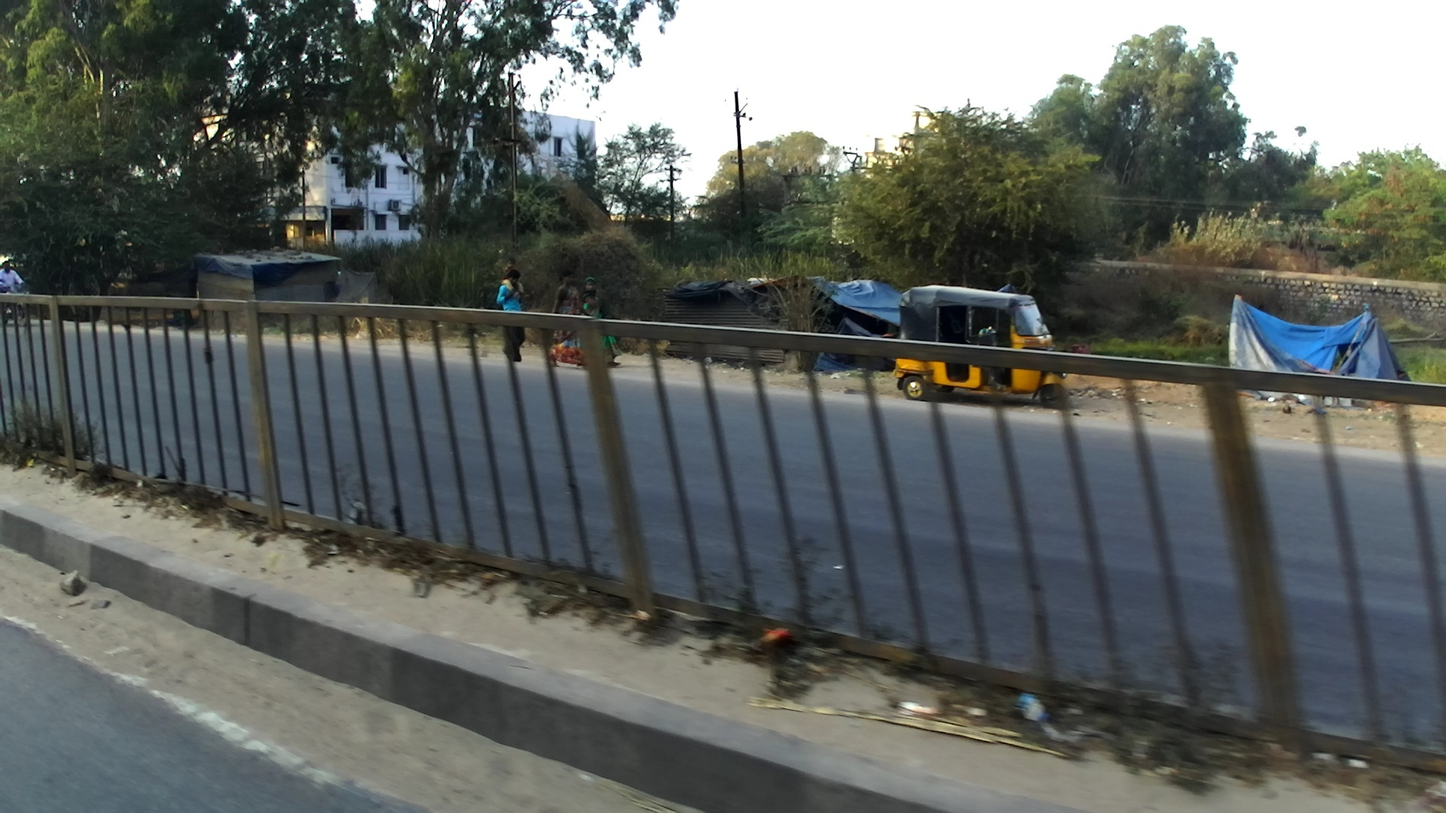autorickshaw: (894, 283, 1054, 370)
motorcycle: (1, 281, 32, 302)
person: (492, 269, 527, 319), (546, 272, 583, 318), (578, 276, 604, 326), (502, 256, 519, 285)
rider: (1, 263, 23, 295)
